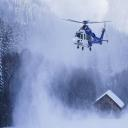helicopter: (61, 19, 113, 52)
